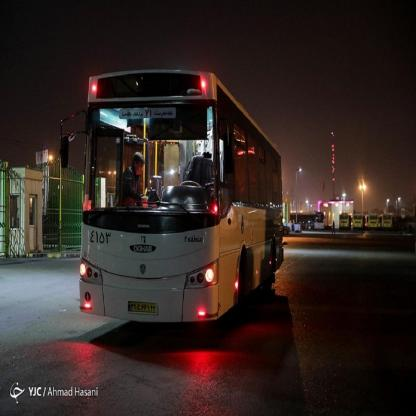Bus: (78, 62, 288, 325), (286, 212, 324, 234), (354, 212, 366, 235), (341, 216, 352, 232), (370, 213, 380, 230), (383, 215, 393, 230)
